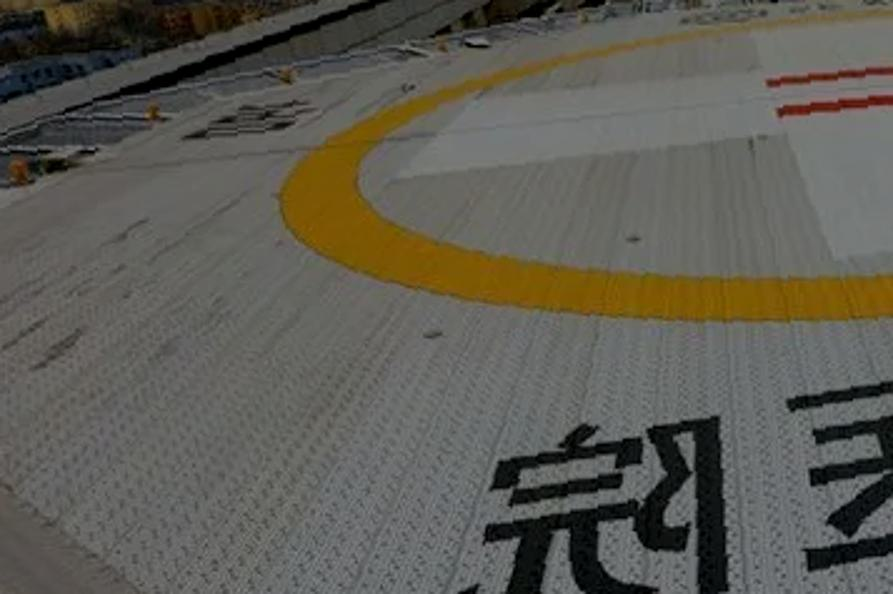Apron: (269, 13, 893, 336)
